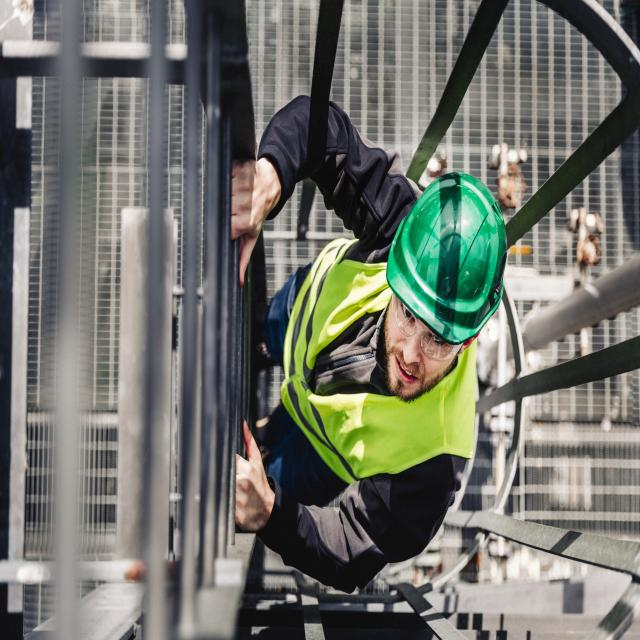helmet: (384, 165, 510, 352)
vest: (280, 249, 479, 489)
